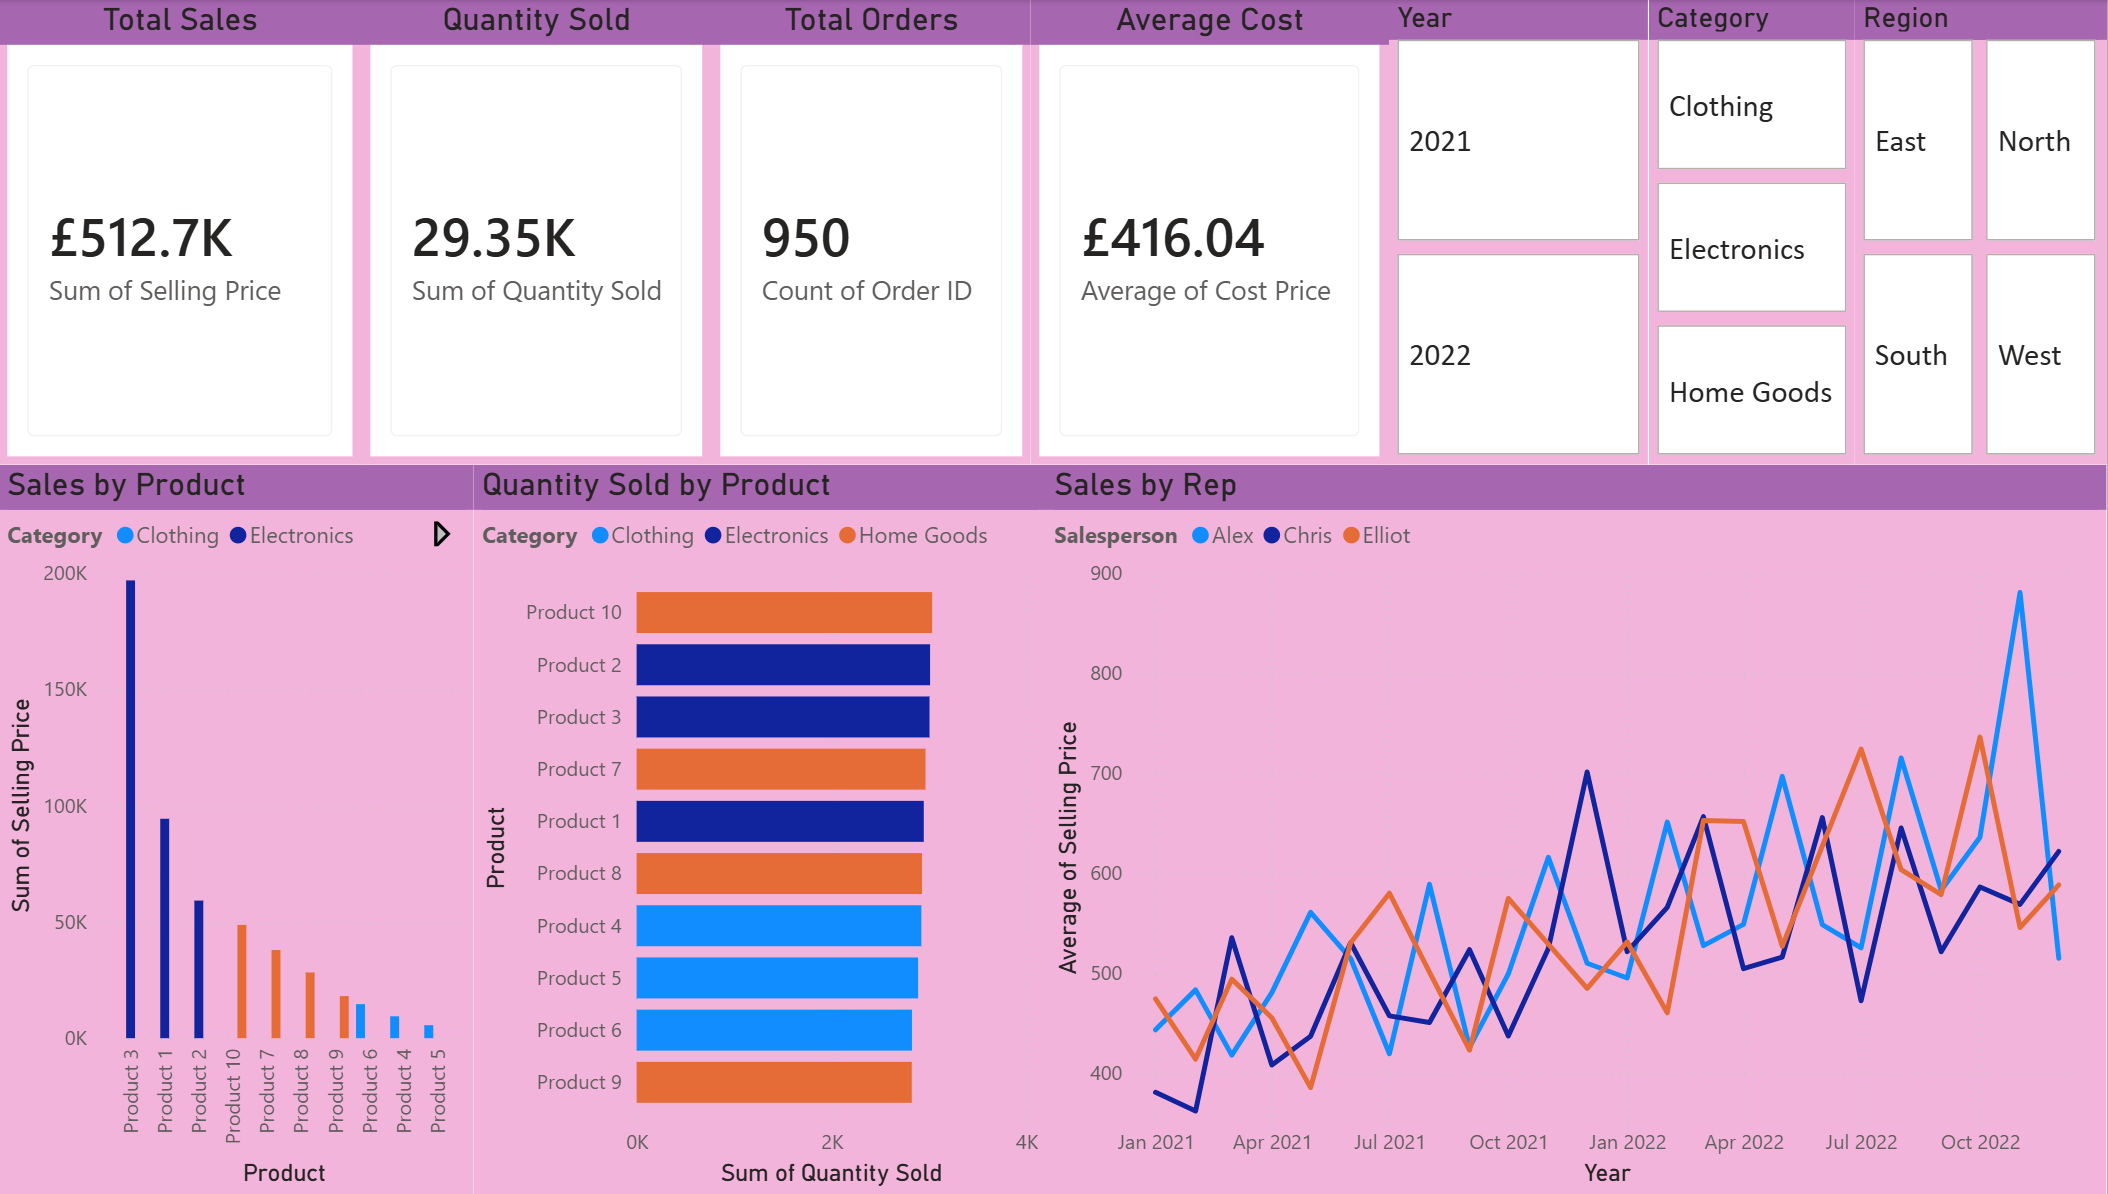

Layout of this report page (visuals, bound fields, positions):
{"tool":"powerbi","page":{"name":"Core Business Insights","canvas":[1280,720],"ordinal":0},"visuals":[{"type":"cardVisual","title":"Total Sales","fields":{"Data":["power_query_data_powerquery_demo.Selling Price"]},"box":[9.8,0,218.6,280.1],"z":0},{"type":"cardVisual","title":"Quantity Sold","fields":{"Data":["power_query_data_powerquery_demo.Quantity Sold"]},"box":[228.4,0,210.7,280.1],"z":1000},{"type":"cardVisual","title":"Total Orders","fields":{"Data":["power_query_data_powerquery_demo.Order ID"]},"box":[439.1,0,192.4,280.1],"z":2000},{"type":"cardVisual","title":"Average Cost","fields":{"Data":["power_query_data_powerquery_demo.Cost Price"]},"box":[631.5,0,216,280.1],"z":3000},{"type":"clusteredColumnChart","title":"Sales by Product","fields":{"Category":["power_query_data_powerquery_demo.Product"],"Y":["power_query_data_powerquery_demo.Selling Price"],"Series":["power_query_data_powerquery_demo.Category"]},"box":[9.8,280.1,286,439.8],"z":4000},{"type":"advancedSlicerVisual","fields":{"Values":["power_query_data_powerquery_demo.Region"]},"box":[1128.2,0,151.8,280.1],"z":5000},{"type":"advancedSlicerVisual","fields":{"Values":["power_query_data_powerquery_demo.Category"]},"box":[1003.8,0,124.3,280.1],"z":5002},{"type":"advancedSlicerVisual","fields":{"Values":["Cleaned Data - Grouped.Year"]},"box":[847.4,0,156.4,280.1],"z":5003},{"type":"barChart","title":"Quantity Sold by Product","fields":{"Category":["power_query_data_powerquery_demo.Product"],"Series":["power_query_data_powerquery_demo.Category"],"Y":["power_query_data_powerquery_demo.Quantity Sold"]},"box":[295.8,280.1,344.9,439.8],"z":5004},{"type":"lineChart","title":"Sales by Rep","fields":{"Y":["power_query_data_powerquery_demo.Selling Price"],"Series":["power_query_data_powerquery_demo.Salesperson"],"Category":["power_query_data_powerquery_demo.Date.Variation.Date Hierarchy.Year","power_query_data_powerquery_demo.Date.Variation.Date Hierarchy.Month","power_query_data_powerquery_demo.Date.Variation.Date Hierarchy.Day"]},"box":[640.7,280.1,639.3,439.8],"z":5005}]}

Visuals, with their boxes in screenshot pixels (x1, y1, x2, y2), scaled from the page's 1280x720 canvas onto the 2108x1194 screenshot:
"Total Sales" cardVisual: (left=16, top=0, right=376, bottom=464)
"Quantity Sold" cardVisual: (left=376, top=0, right=723, bottom=464)
"Total Orders" cardVisual: (left=723, top=0, right=1040, bottom=464)
"Average Cost" cardVisual: (left=1040, top=0, right=1396, bottom=464)
"Sales by Product" clusteredColumnChart: (left=16, top=464, right=487, bottom=1193)
advancedSlicerVisual - power_query_data_powerquery_demo.Region: (left=1858, top=0, right=2107, bottom=464)
advancedSlicerVisual - power_query_data_powerquery_demo.Category: (left=1653, top=0, right=1858, bottom=464)
advancedSlicerVisual - Cleaned Data - Grouped.Year: (left=1396, top=0, right=1653, bottom=464)
"Quantity Sold by Product" barChart: (left=487, top=464, right=1055, bottom=1193)
"Sales by Rep" lineChart: (left=1055, top=464, right=2107, bottom=1193)
